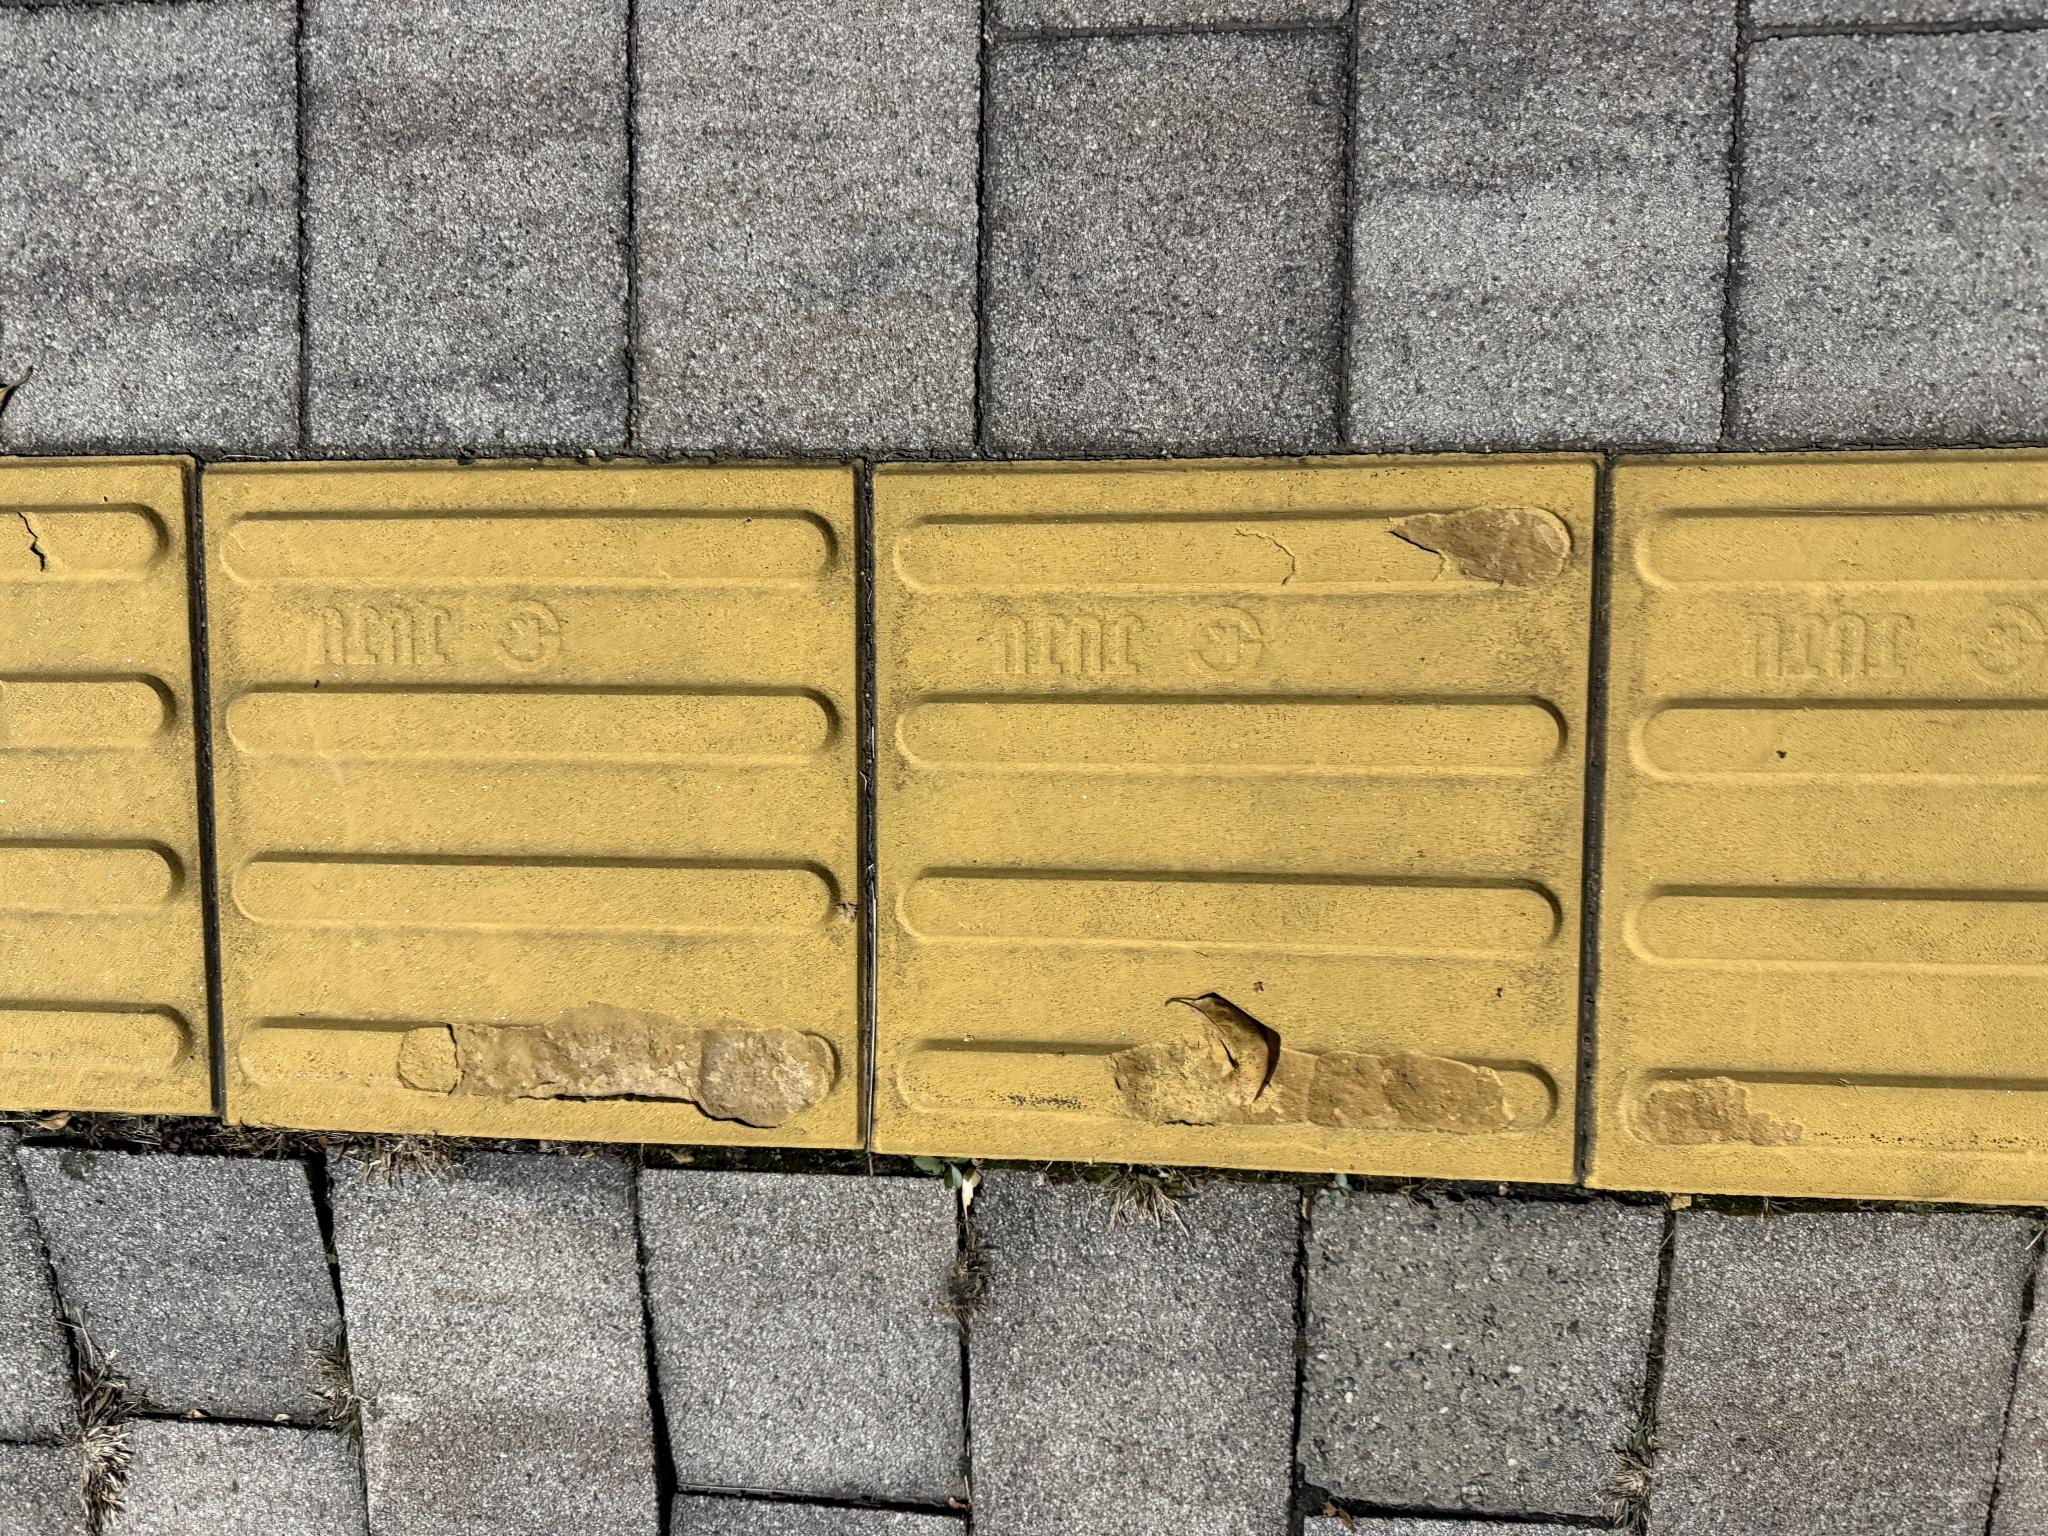Straight block broken: (361, 878, 1074, 1536), (392, 210, 1063, 855)
